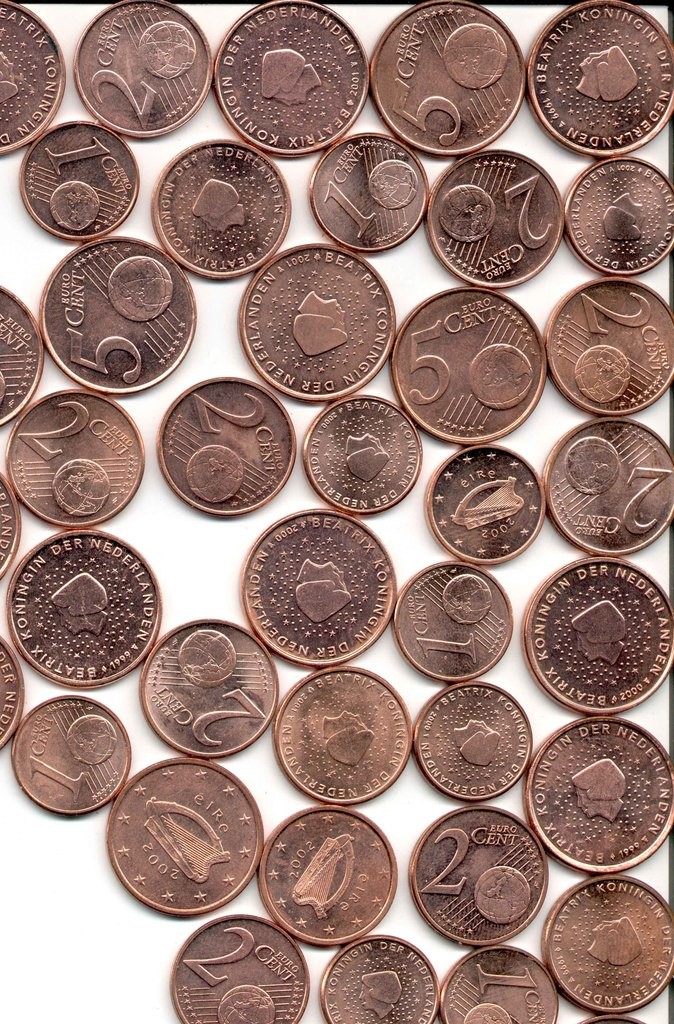Coin: (0, 0, 673, 1023)
